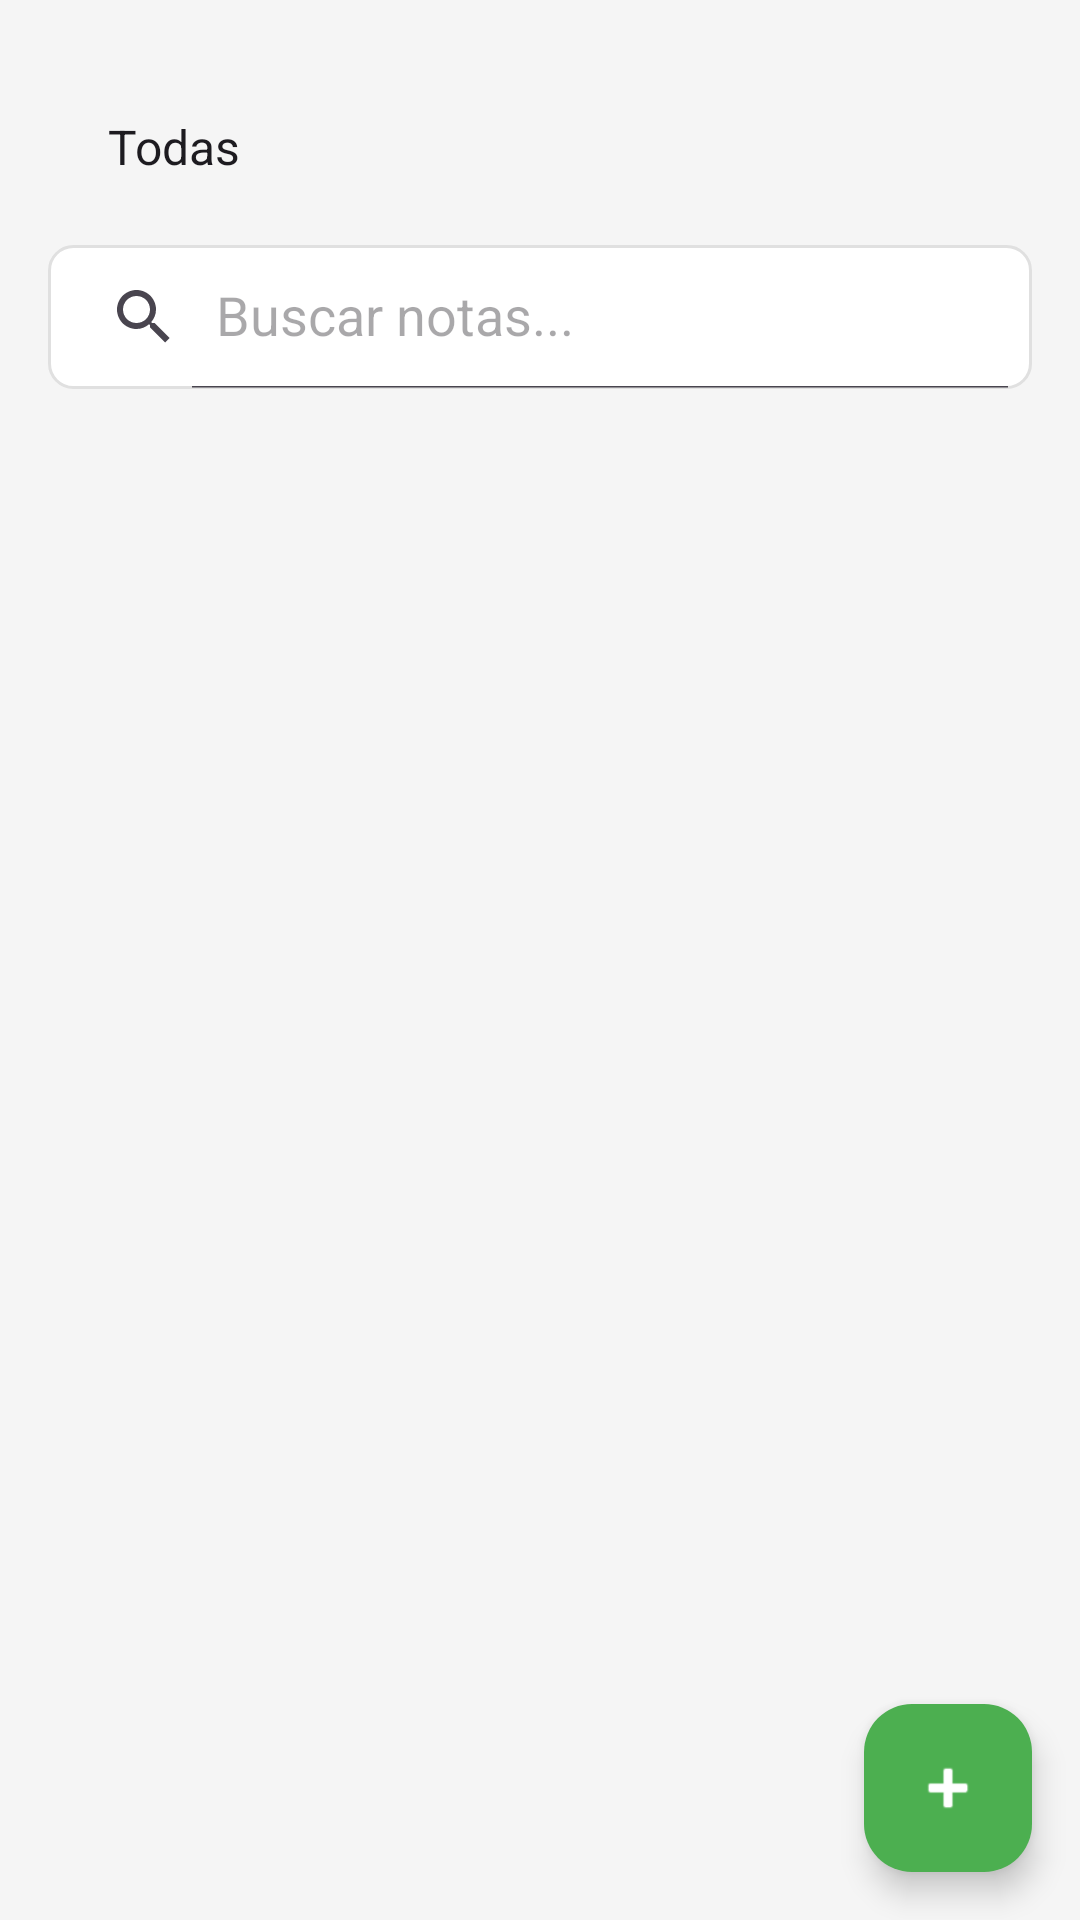

Icon bounding boxes for this 1080w x 1920h phone screenshot, format (x1, y1, x2, y2):
Agregar nueva nota: (864, 1704, 1032, 1872)
